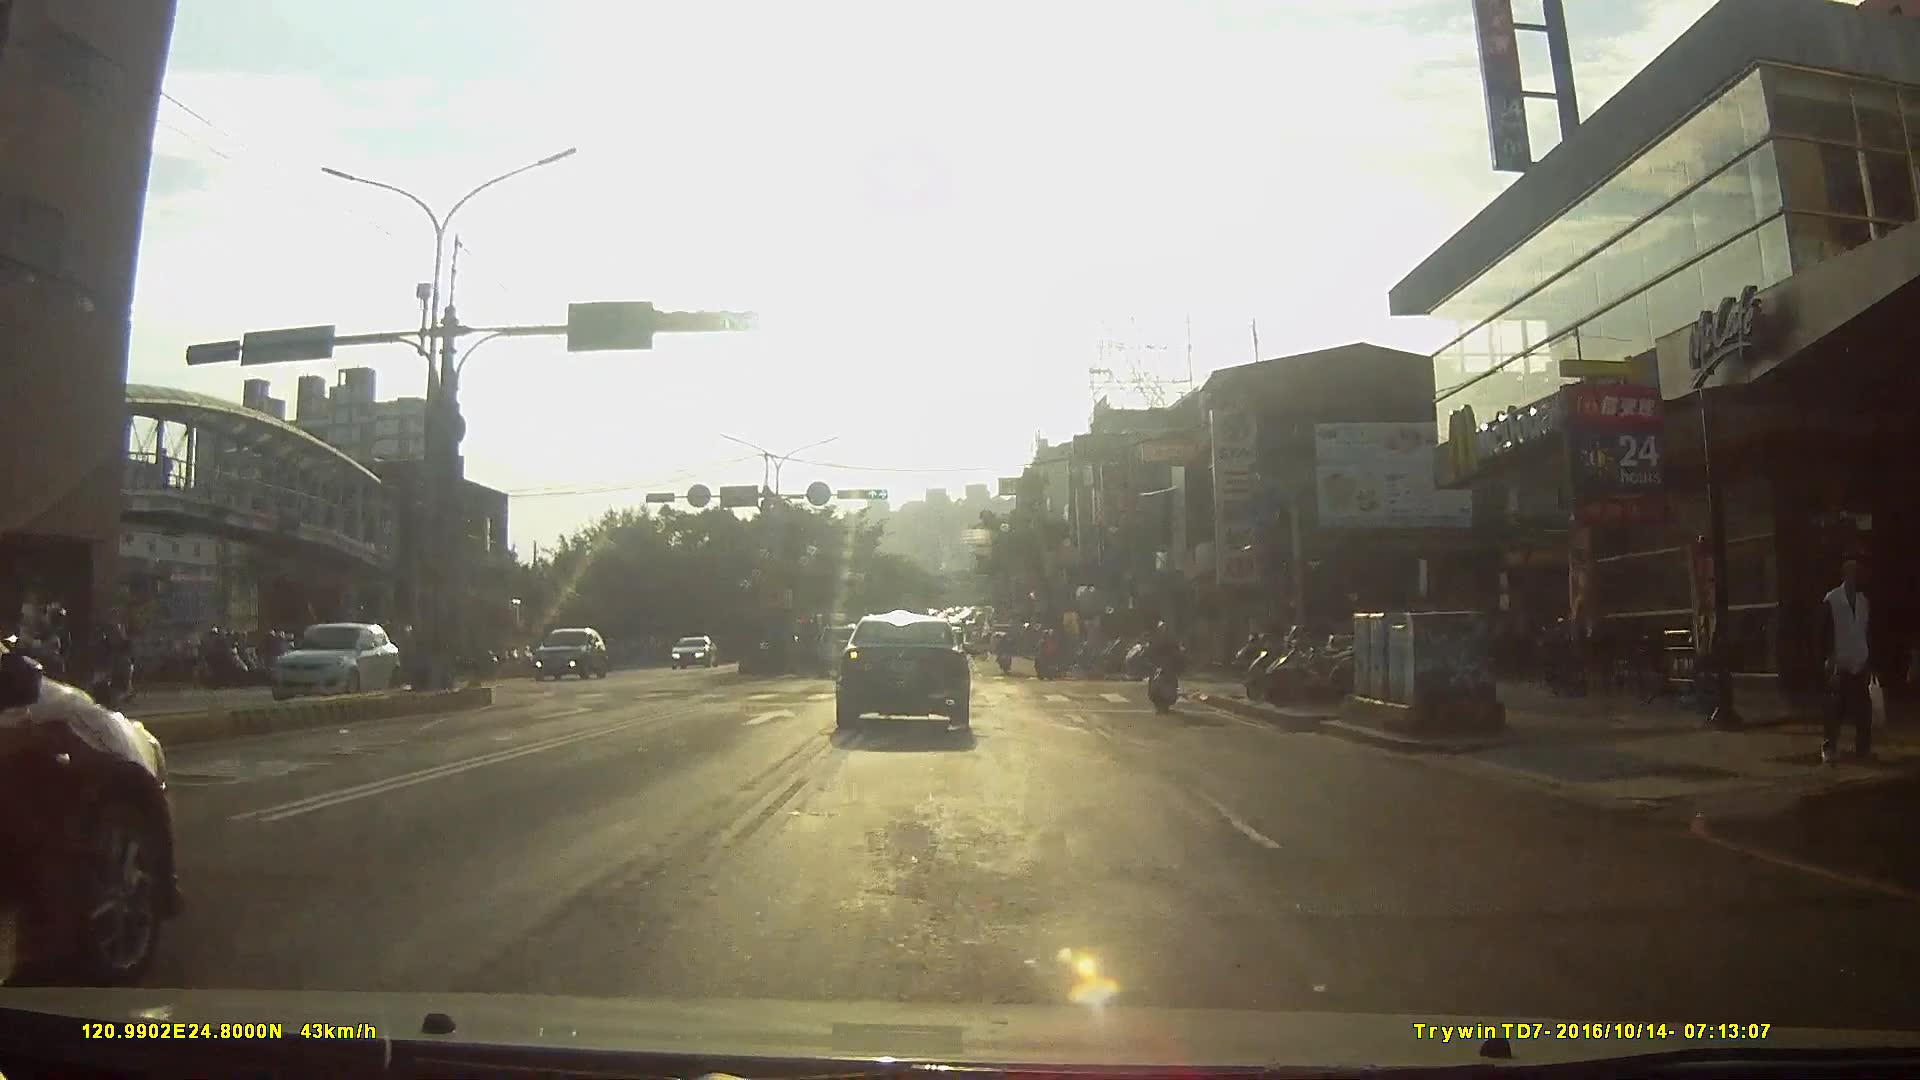pedestrian: (1812, 555, 1890, 768)
rider: (29, 611, 93, 715), (80, 618, 132, 706), (1145, 615, 1184, 715), (197, 626, 254, 691), (1036, 628, 1064, 680), (995, 632, 1015, 676)
vehicle: (1, 610, 191, 1003), (833, 608, 990, 735), (267, 622, 411, 717), (534, 629, 612, 686), (815, 617, 874, 672), (666, 636, 720, 671)
